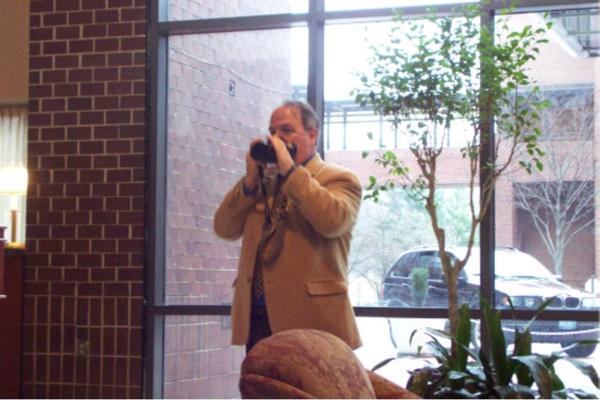person: (212, 99, 363, 360)
